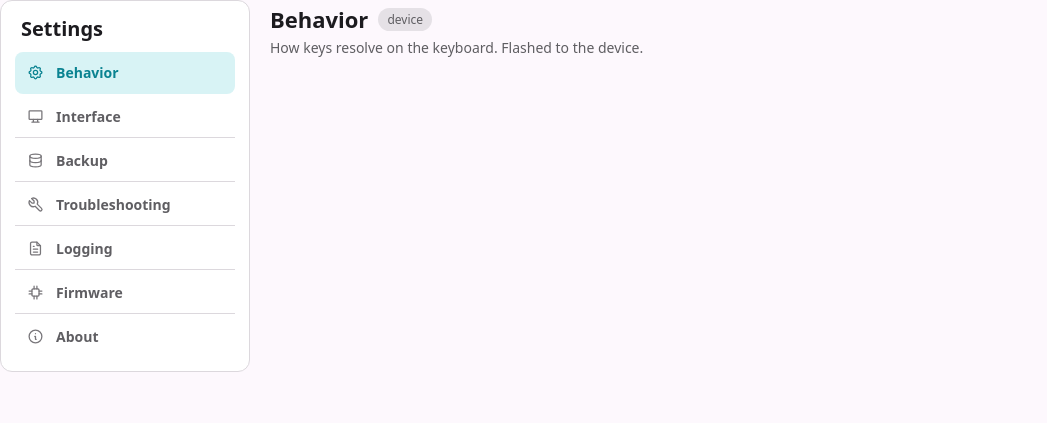
Test: Settings → Firmware › offers nothing to flash while no half is connected
Click the tab "Firmware": (125, 293) [15,272,235,314]
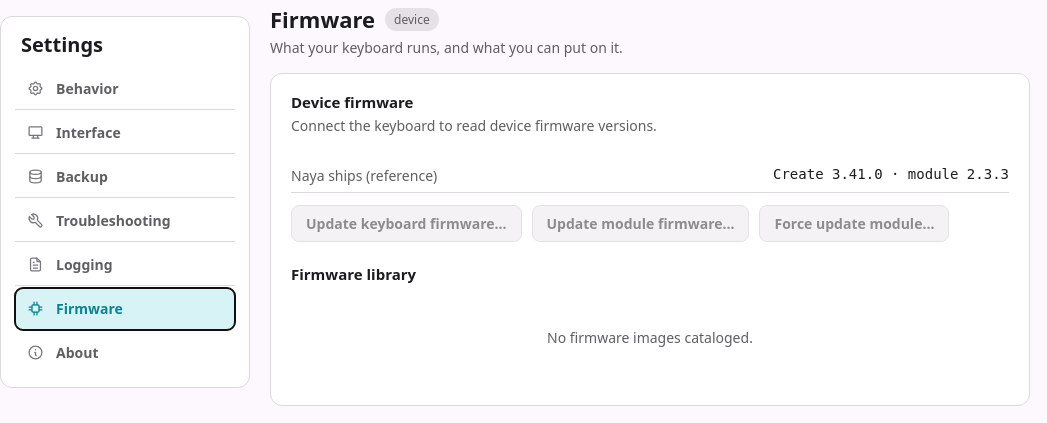
expect the button "Update keyboard firmware…" is disabled: met, box [291,205,522,242]
expect the text "Connect the keyboard to read device firmware versions." is shown: met, box [291,116,657,135]
